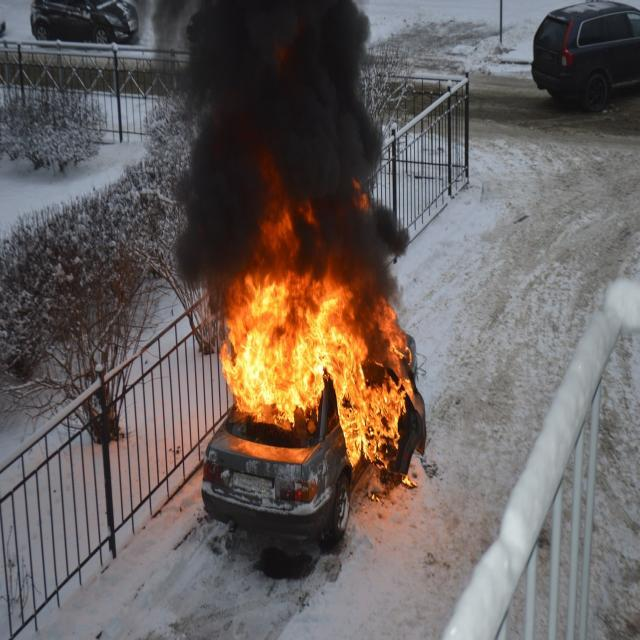Fire: (222, 198, 360, 428), (341, 296, 408, 470)
Smoke: (170, 0, 410, 310)
